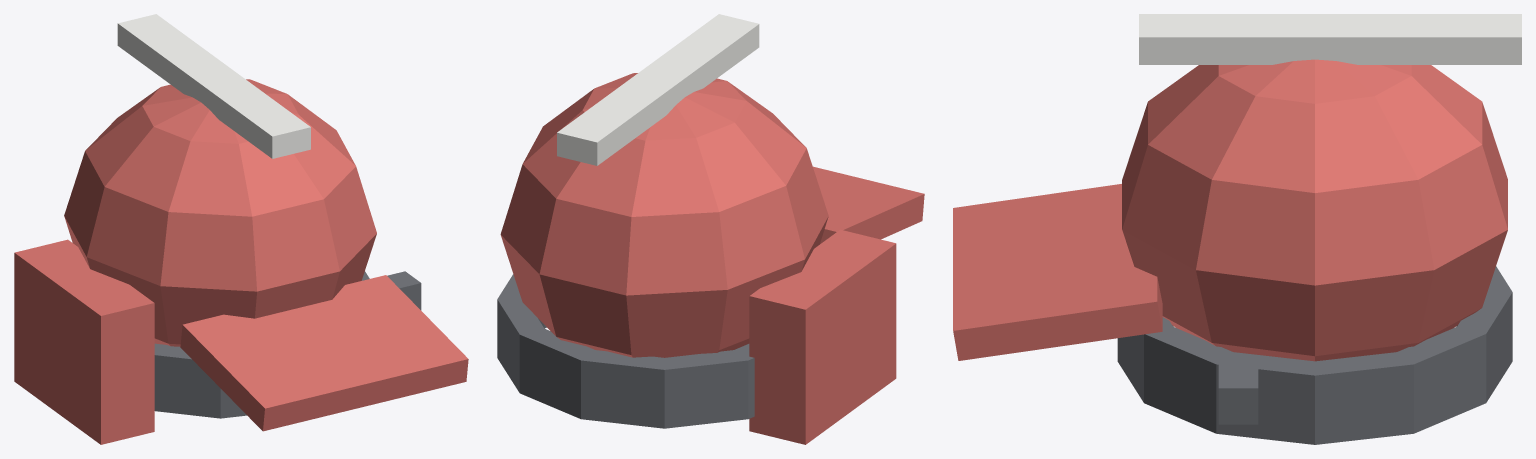
The model's file is baseball-park-and-batting-cages-batting-helmet-visitor-118ace44__33770.glb.
The picture shows the model from 3 angles, left to right: view 1: azimuth 30°, elevation 25°; view 2: azimuth 150°, elevation 25°; view 3: azimuth 270°, elevation 25°; orthographic projection. The views are drawn at different scales.
Visible parts, largest first — view 1: batting-helmet-visitor; view 2: batting-helmet-visitor; view 3: batting-helmet-visitor.
Boxes of the visible parts, bbox=[...] form: batting-helmet-visitor: bbox=[14, 14, 468, 444]; batting-helmet-visitor: bbox=[497, 14, 924, 444]; batting-helmet-visitor: bbox=[953, 14, 1521, 444].
Size of the model in its own units: 0.31 by 0.2555 by 0.3714.
